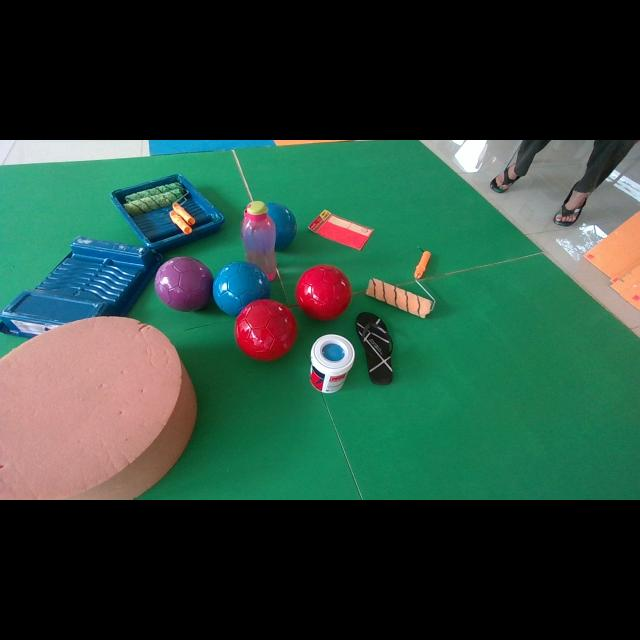B: (212, 261, 270, 316), (266, 202, 298, 251)
P: (155, 256, 212, 311)
R: (235, 299, 298, 361), (295, 265, 352, 320)
